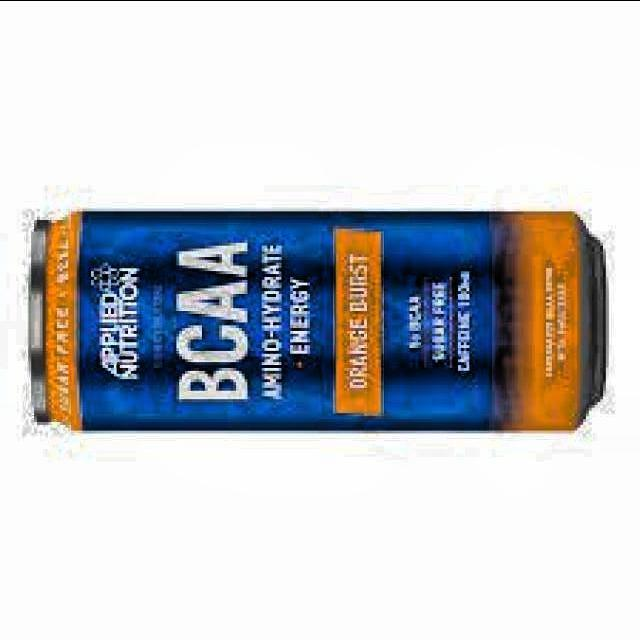litter: (24, 204, 612, 435)
